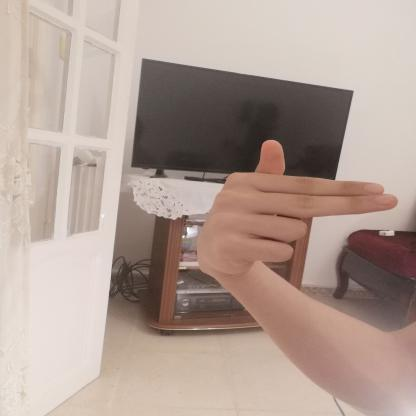GHAYN: (180, 128, 409, 286)
